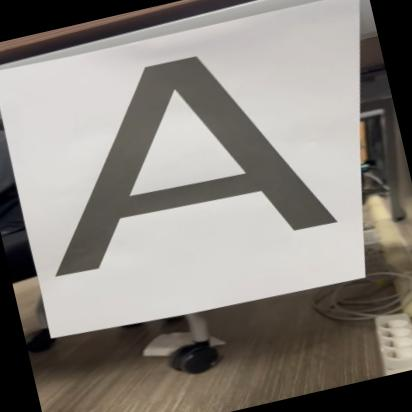seat: (8, 22, 348, 293)
